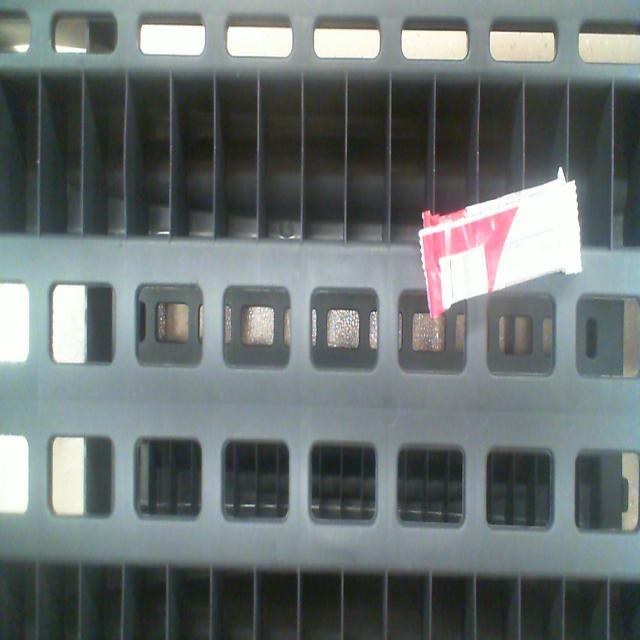snack: (422, 179, 580, 306)
